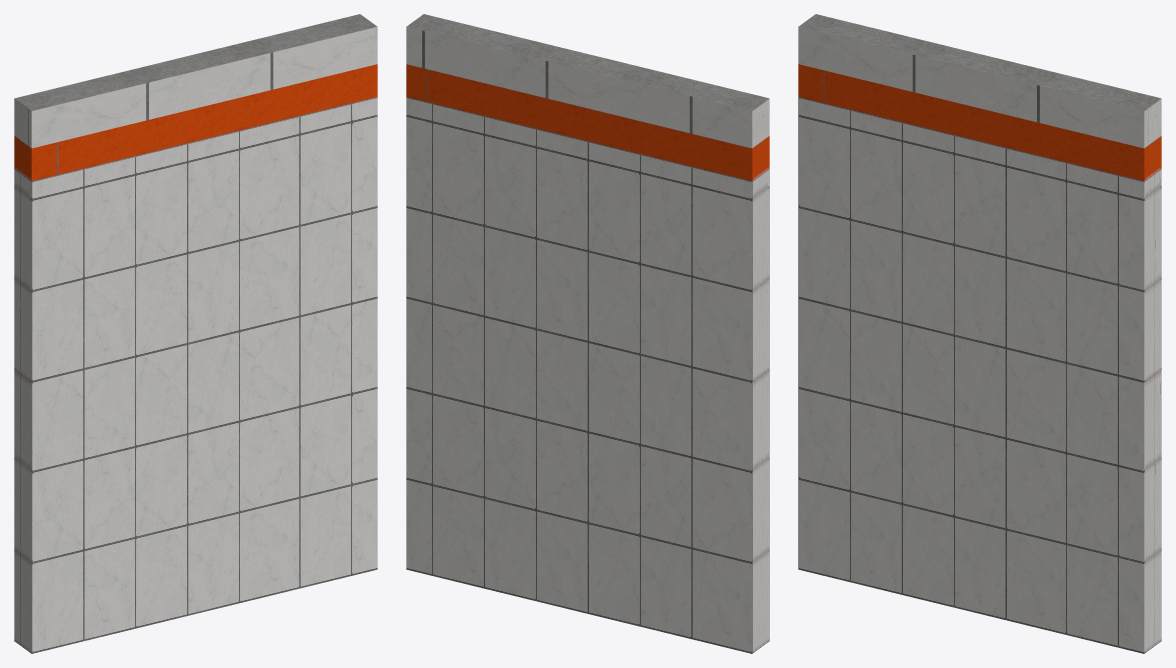
File: Wall_1.fbx
3 renders of one model, left to right at view 1: azimuth 30°, elevation 25°; view 2: azimuth 150°, elevation 25°; view 3: azimuth 330°, elevation 25°, orthographic.
Parts seen in each view (by area): view 1: Wall_1; view 2: Wall_1; view 3: Wall_1.
Boxes of the visible parts, bbox=[...] form: Wall_1: bbox=[14, 14, 377, 653]; Wall_1: bbox=[406, 14, 769, 653]; Wall_1: bbox=[798, 14, 1161, 653].
Size of the model in its own units: 2 by 3 by 0.175.
